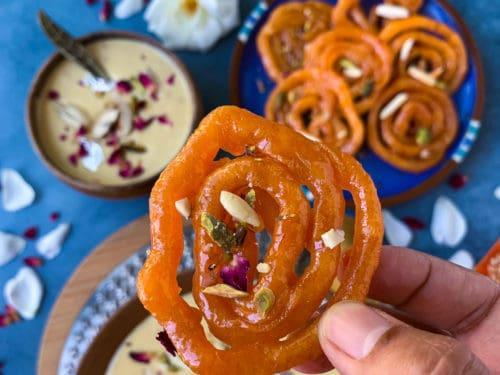jalebi: (146, 111, 367, 375), (257, 11, 474, 171)
